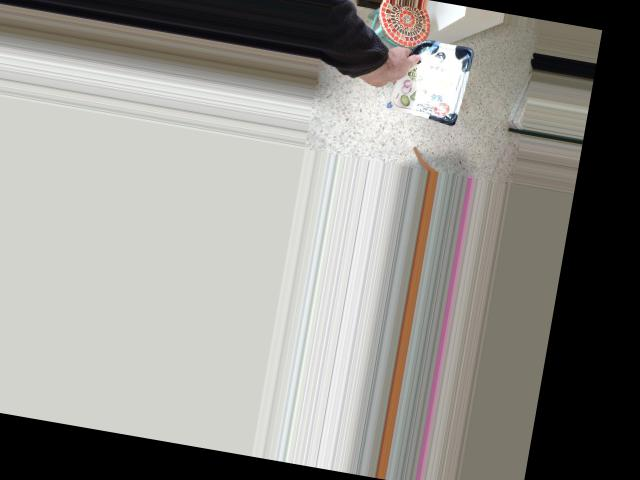cheese: (359, 29, 459, 122)
